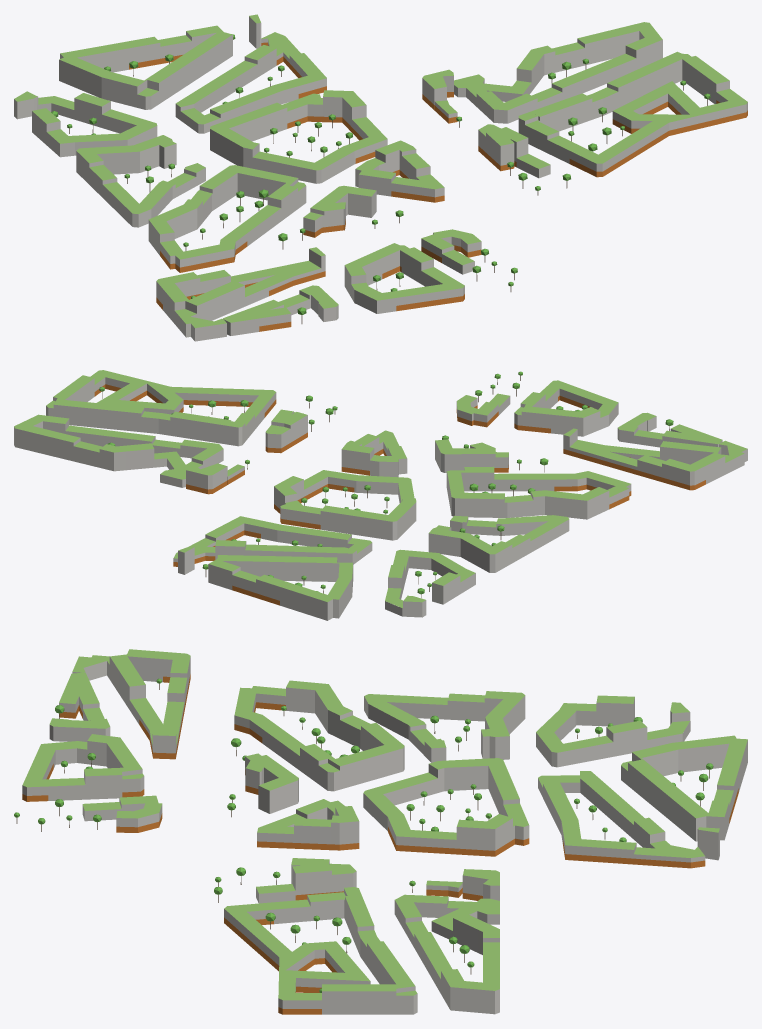
3 views of the same model, one above another, from view 1: azimuth 30°, elevation 25°; view 2: azimuth 150°, elevation 25°; view 3: azimuth 270°, elevation 25° (orthographic). The views are drawn at different scales.
Parts seen in each view (by area): view 1: V1_P3_wohnen, V1_P2_wohnen, V1_P1_wohnen, V1_P3_dach, V1_P2_dach, V1_P4_wohnen, V1_P1_dach, V1_P4_dach, V1_P3_eg, V1_P4_eg, V1_P3_baeume, V1_P2_baeume (+2 smaller); view 2: V1_P3_wohnen, V1_P2_wohnen, V1_P1_wohnen, V1_P3_dach, V1_P2_dach, V1_P4_wohnen, V1_P1_dach, V1_P4_dach, V1_P3_eg, V1_P4_eg, V1_P2_eg, V1_P3_baeume (+2 smaller); view 3: V1_P3_wohnen, V1_P3_dach, V1_P2_wohnen, V1_P1_wohnen, V1_P2_dach, V1_P1_dach, V1_P4_wohnen, V1_P4_dach, V1_P3_eg, V1_P2_eg, V1_P4_eg, V1_P3_baeume (+2 smaller).
Part boxes in pixels (box(x1,y1,x2,y2)): V1_P3_wohnen: box(148, 59, 747, 267); V1_P2_wohnen: box(76, 31, 662, 227); V1_P1_wohnen: box(14, 16, 326, 157); V1_P3_dach: box(149, 51, 747, 259); V1_P2_dach: box(76, 22, 662, 214); V1_P4_wohnen: box(156, 233, 481, 341); V1_P1_dach: box(14, 14, 326, 143); V1_P4_dach: box(156, 229, 481, 327); V1_P3_eg: box(160, 100, 747, 272); V1_P4_eg: box(156, 245, 481, 331); V1_P3_baeume: box(183, 80, 710, 250); V1_P2_baeume: box(124, 58, 588, 192); V1_P3_wohnen: box(46, 377, 631, 519); V1_P2_wohnen: box(14, 419, 569, 572); V1_P1_wohnen: box(173, 523, 475, 620); V1_P3_dach: box(46, 370, 630, 502); V1_P2_dach: box(14, 414, 568, 554); V1_P4_wohnen: box(456, 388, 747, 485); V1_P1_dach: box(173, 516, 475, 608); V1_P4_dach: box(456, 380, 747, 471); V1_P3_eg: box(94, 384, 631, 509); V1_P4_eg: box(456, 395, 705, 490); V1_P2_eg: box(186, 470, 354, 529); V1_P3_baeume: box(99, 387, 548, 496); V1_P3_wohnen: box(224, 687, 417, 1014); V1_P3_dach: box(224, 680, 417, 1000); V1_P2_wohnen: box(363, 696, 529, 1014); V1_P1_wohnen: box(536, 697, 747, 862); V1_P2_dach: box(363, 691, 528, 990); V1_P1_dach: box(536, 695, 747, 857); V1_P4_wohnen: box(22, 656, 190, 827); V1_P4_dach: box(22, 649, 190, 818); V1_P3_eg: box(224, 702, 359, 1014); V1_P2_eg: box(388, 827, 529, 900); V1_P4_eg: box(22, 674, 190, 832); V1_P3_baeume: box(214, 706, 415, 992).
Bounding box in the file's own units: 527 × 19.7 × 474.
